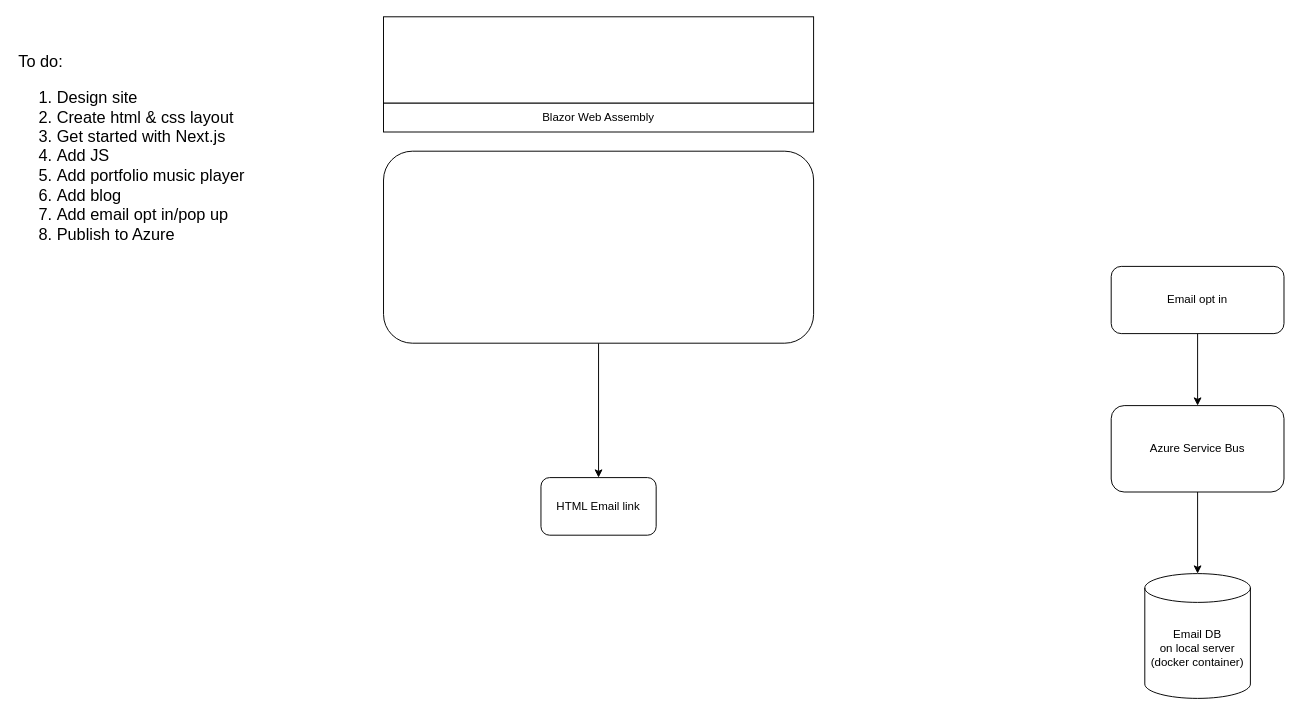
This 1301x715 diagram has some shape labels left out. The box of each missing label's shape, as (x1, y1, x2, y2) in pixels:
Azure Static Web App: (383, 16, 814, 103)
Home - Welcome - About - Portfolio - Contact: (383, 150, 814, 343)
